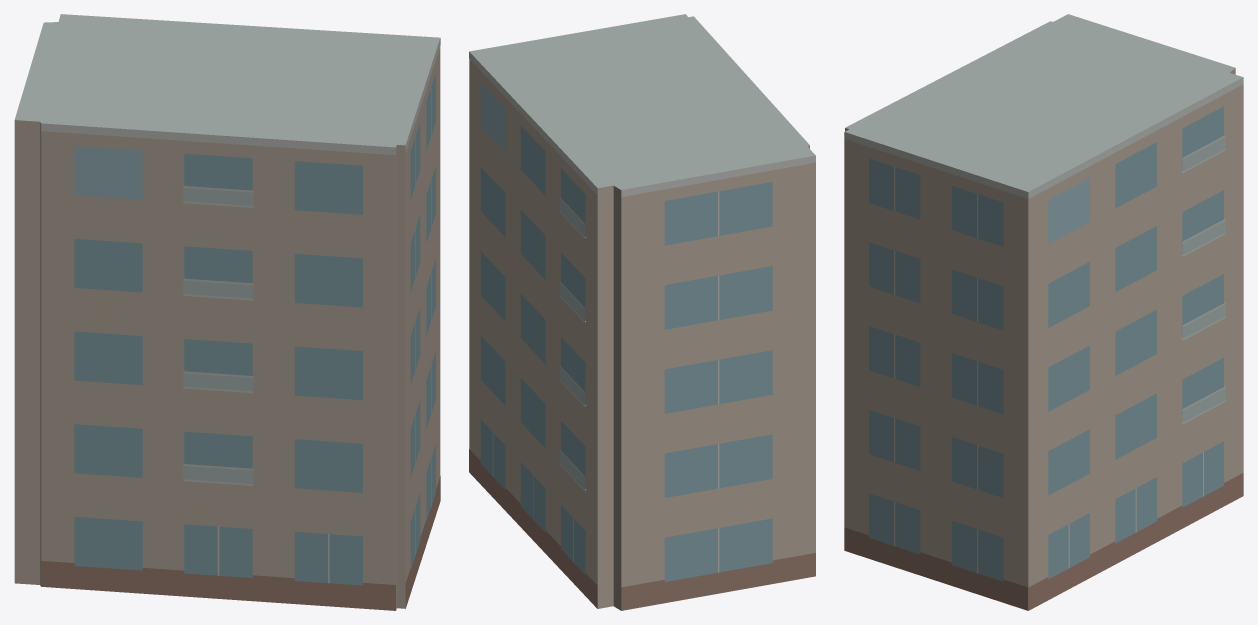
File: survey-upis-32908596.glb
The picture shows the model from 3 angles, left to right: view 1: azimuth 30°, elevation 25°; view 2: azimuth 150°, elevation 25°; view 3: azimuth 270°, elevation 25°; orthographic projection. The views are drawn at different scales.
Visible parts, largest first — view 1: survey-upis-32908596.tmp; view 2: survey-upis-32908596.tmp; view 3: survey-upis-32908596.tmp.
Part boxes in pixels (bbox=[...]): survey-upis-32908596.tmp: bbox=[14, 14, 440, 610]; survey-upis-32908596.tmp: bbox=[469, 14, 815, 610]; survey-upis-32908596.tmp: bbox=[844, 14, 1243, 610].
Size of the model in its own units: 13.28 by 14.55 by 12.58.
